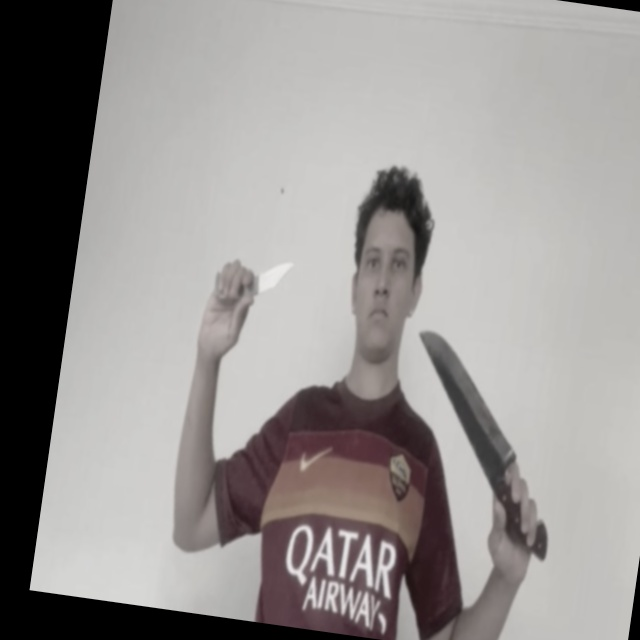Sharp-Object: (401, 327, 533, 470), (258, 257, 296, 297)
